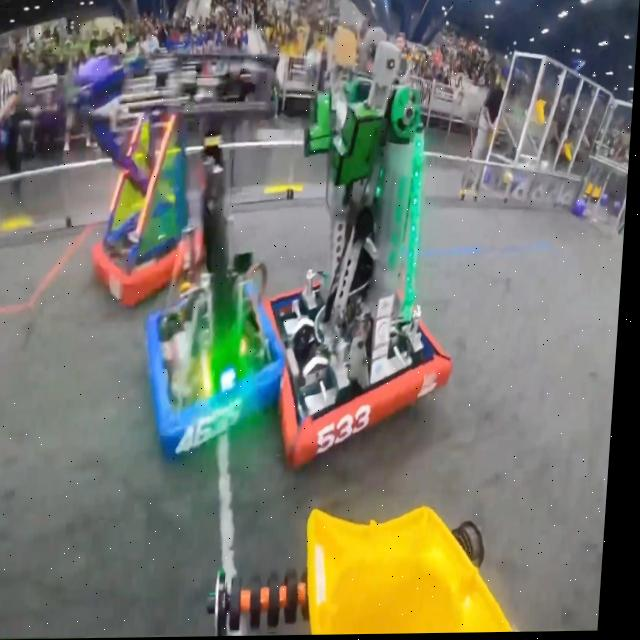robot: (259, 24, 475, 471), (144, 120, 303, 464), (67, 62, 218, 310)
